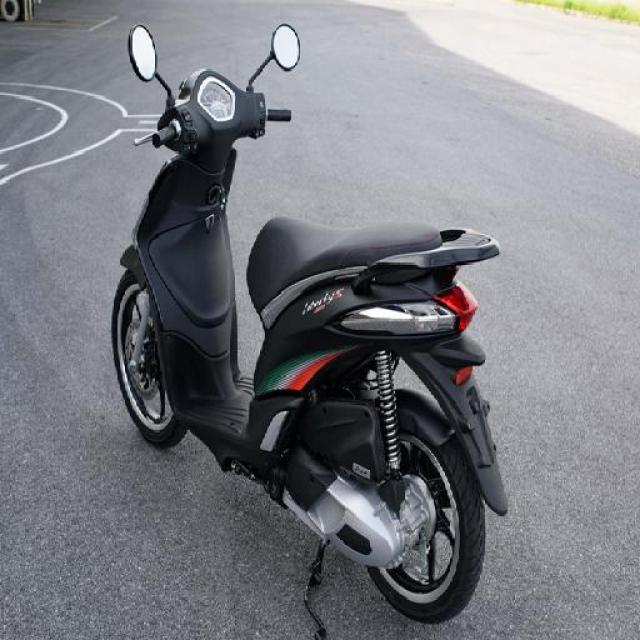All: (106, 22, 505, 635)
Head: (134, 63, 292, 152)
Tail: (396, 210, 501, 298)
